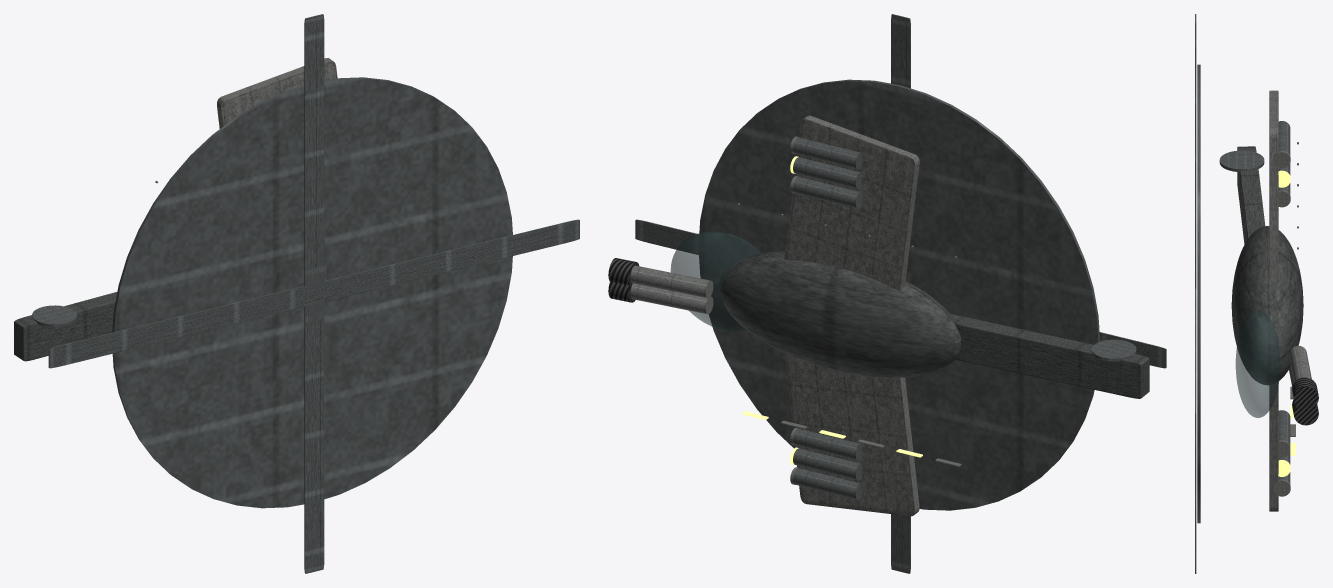
The model's file is c-u10-attack-helicopter-lod0.glb.
The picture shows the model from 3 angles, left to right: view 1: azimuth 30°, elevation 25°; view 2: azimuth 150°, elevation 25°; view 3: azimuth 270°, elevation 25°; orthographic projection.
Parts seen in each view (by area): view 1: rotor_main, rotor_blade_2, rotor_blade_1, rotor_blade_3, rotor_blade_0, tail_boom, stub_wing_1, rotor_tail; view 2: rotor_main, helicopter_fuselage, stub_wing_1, stub_wing_-1, tail_boom, cockpit, chin_gun_barrel_1, rotor_blade_1, rotor_blade_0, chin_gun_barrel_0, helo_missile_-1_tube_3, helo_missile_-1_tube_2 (+7 smaller); view 3: helicopter_fuselage, cockpit, stub_wing_1, rotor_main, tail_boom, stub_wing_-1, rotor_tail, chin_gun_muzzle_1, chin_gun_barrel_1, rotor_blade_1, chin_gun_muzzle_0, helo_missile_-1_tube_3 (+9 smaller).
Part boxes in pixels (<box>): rotor_main: <box>112,77,512,508</box>; rotor_blade_2: <box>48,278,339,368</box>; rotor_blade_1: <box>304,14,324,322</box>; rotor_blade_3: <box>304,266,324,573</box>; rotor_blade_0: <box>289,219,579,310</box>; tail_boom: <box>14,292,117,361</box>; stub_wing_1: <box>217,58,337,128</box>; rotor_tail: <box>32,305,76,327</box>; rotor_main: <box>698,79,1099,510</box>; helicopter_fuselage: <box>719,251,961,377</box>; stub_wing_1: <box>784,115,919,291</box>; stub_wing_-1: <box>784,353,919,516</box>; tail_boom: <box>950,314,1149,398</box>; cockpit: <box>670,231,761,331</box>; chin_gun_barrel_1: <box>630,265,713,298</box>; rotor_blade_1: <box>891,14,910,88</box>; rotor_blade_0: <box>635,219,698,254</box>; chin_gun_barrel_0: <box>630,283,713,314</box>; helo_missile_-1_tube_3: <box>793,428,861,460</box>; helo_missile_-1_tube_2: <box>793,448,861,480</box>; helicopter_fuselage: <box>1231,226,1303,384</box>; cockpit: <box>1235,310,1280,417</box>; stub_wing_1: <box>1269,90,1278,283</box>; rotor_main: <box>1197,64,1200,523</box>; tail_boom: <box>1237,146,1265,244</box>; stub_wing_-1: <box>1269,382,1278,511</box>; rotor_tail: <box>1219,150,1264,171</box>; chin_gun_muzzle_1: <box>1292,377,1318,409</box>; chin_gun_barrel_1: <box>1289,345,1311,381</box>; rotor_blade_1: <box>1195,14,1196,272</box>; chin_gun_muzzle_0: <box>1292,399,1318,425</box>; helo_missile_-1_tube_3: <box>1278,410,1290,444</box>.
Size of what is drawn, in the model's own units: 15.77 by 15.62 by 3.18.
7 materials, 7 textured.
